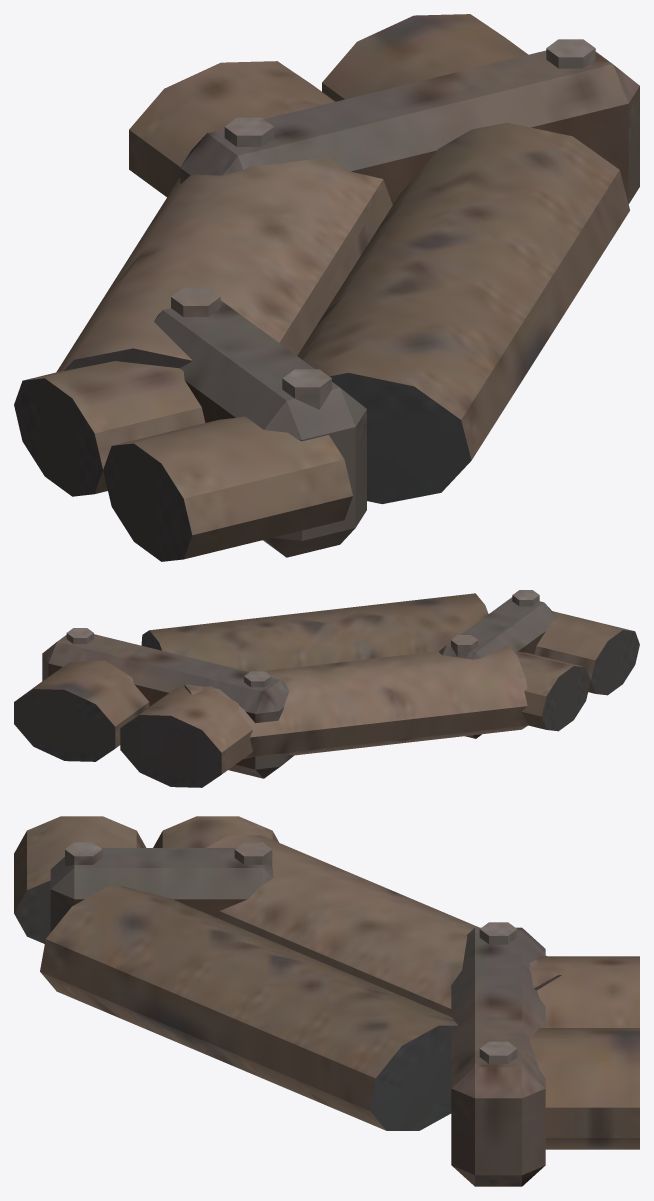
The model's file is heat-pipe-corner-up-left.glb.
3 renders of one model, top to bottom at view 1: azimuth 30°, elevation 25°; view 2: azimuth 150°, elevation 25°; view 3: azimuth 270°, elevation 25°, orthographic. The views are drawn at different scales.
Parts seen in each view (by area): view 1: body; view 2: body; view 3: body.
Part boxes in pixels (x1,y1,x2,y2): body: (14, 14, 639, 561); body: (14, 590, 639, 787); body: (14, 816, 639, 1186).
Bounding box in the file's own units: 0.7 × 0.15 × 0.664.
Materials: 1 (1 with a texture image).
